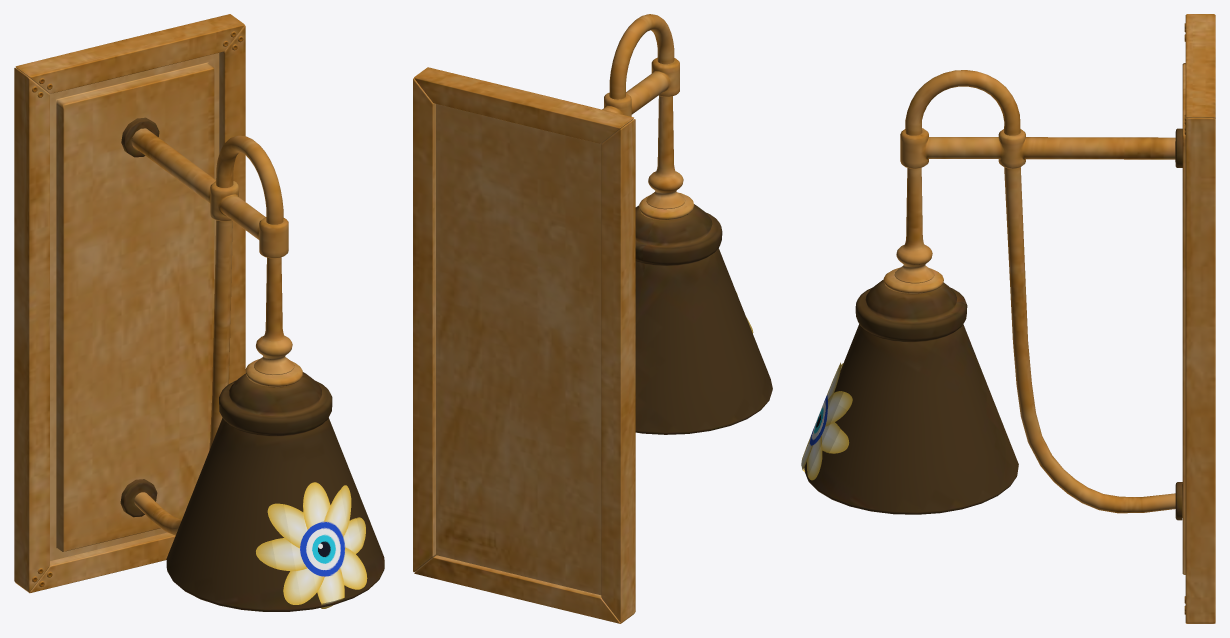
The model's file is nyb_annie_sconce.glb.
3 views of the same model, side by side, from view 1: azimuth 30°, elevation 25°; view 2: azimuth 150°, elevation 25°; view 3: azimuth 270°, elevation 25° (orthographic). The views are drawn at different scales.
Parts seen in each view (by area): view 1: industrial_wall_sconce, stk_eyeflower_gold.png; view 2: industrial_wall_sconce; view 3: industrial_wall_sconce, stk_eyeflower_gold.png.
Part boxes in pixels (<box>): industrial_wall_sconce: <box>14,14,384,611</box>; stk_eyeflower_gold.png: <box>256,482,367,608</box>; industrial_wall_sconce: <box>413,14,772,623</box>; industrial_wall_sconce: <box>804,14,1215,623</box>; stk_eyeflower_gold.png: <box>801,362,852,480</box>.
Bounding box in the file's own units: 0.1504 × 0.3418 × 0.2533.
3 materials, 3 textured.
